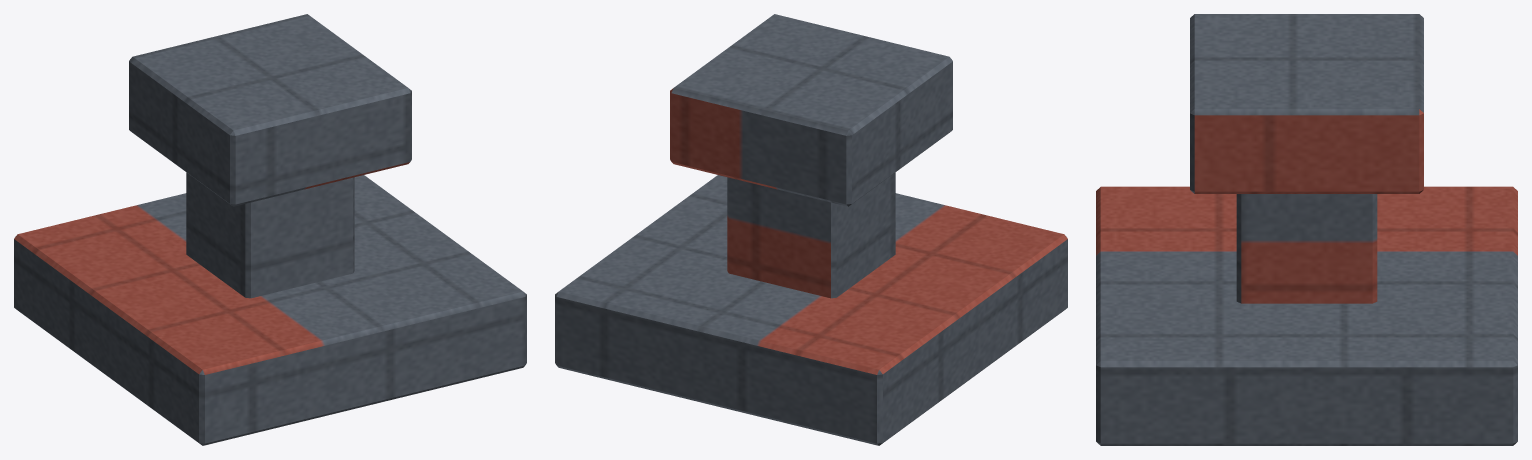
Rendered from turret_mount.glb.
3 views of the same model, side by side, from view 1: azimuth 30°, elevation 25°; view 2: azimuth 150°, elevation 25°; view 3: azimuth 270°, elevation 25° (orthographic). The views are drawn at different scales.
Visible parts, largest first — view 1: turret_mount; view 2: turret_mount; view 3: turret_mount.
Part boxes in pixels (x1,y1,x2,y2): turret_mount: (14,14,526,445); turret_mount: (555,14,1067,445); turret_mount: (1096,14,1517,445).
Size of the model in its own units: 0.9 by 0.7 by 0.9.
Materials: 1 (1 with a texture image).
